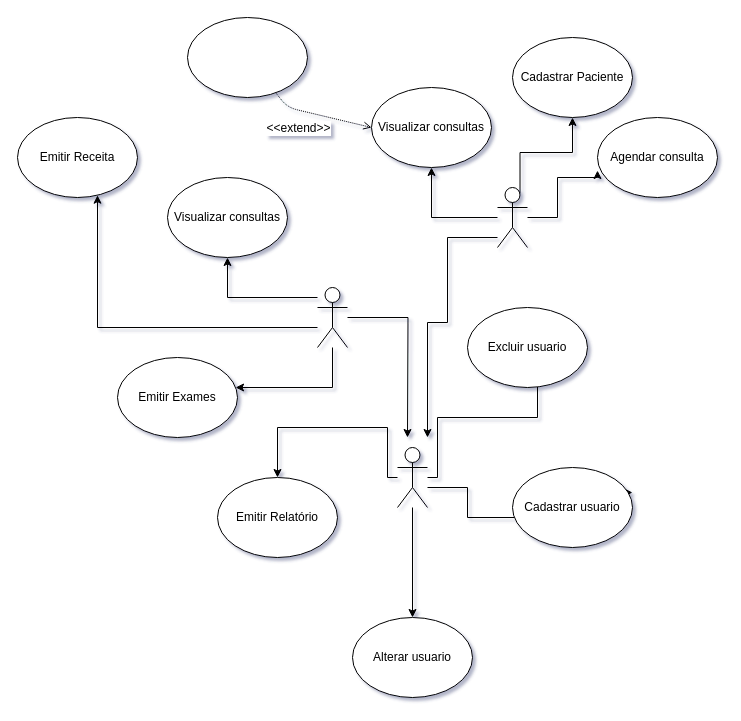
Some shapes in this 741 by 721 pixel diagram are drawn without their labels. The shapes that lost their labels are listed below. From the top down, each one's centre as x and y in pixels, then its label:
At (247,57): "Excluir consulta".
At (512,217): "Recepcionista".
At (332,317): "Medico".
At (412,477): "Proprietário".
